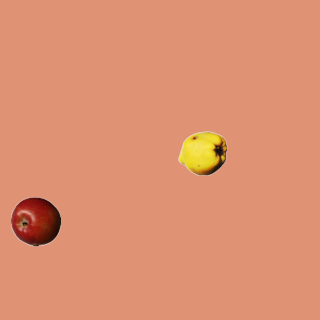Apple Braeburn: (10, 196, 60, 246)
Quince: (177, 128, 227, 178)
